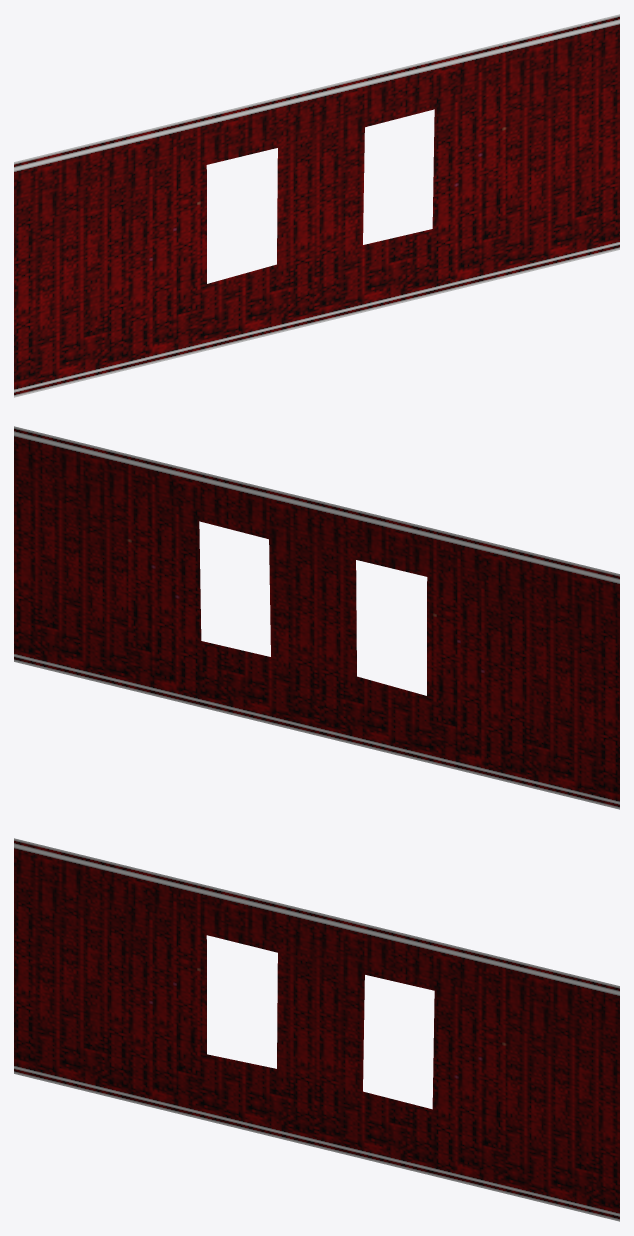
Rendered from W_AI1_xffx [Rot]_2108.glb.
3 views of the same model, one above another, from view 1: azimuth 30°, elevation 25°; view 2: azimuth 150°, elevation 25°; view 3: azimuth 330°, elevation 25° (orthographic).
Parts seen in each view (by area): view 1: polySurfaceShape808; view 2: polySurfaceShape808; view 3: polySurfaceShape808.
Part boxes in pixels (<box>): polySurfaceShape808: <box>14,14,619,397</box>; polySurfaceShape808: <box>14,426,619,809</box>; polySurfaceShape808: <box>14,838,619,1221</box>.
Size of the model in its own units: 0.9385 by 0.3486 by 1.52e-08.
1 material, 1 textured.
